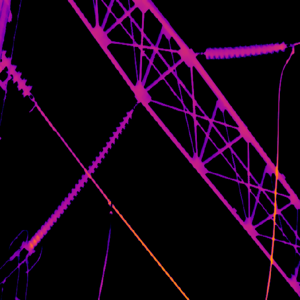insulator: (26, 107, 133, 249), (202, 40, 287, 60), (0, 49, 32, 97)
